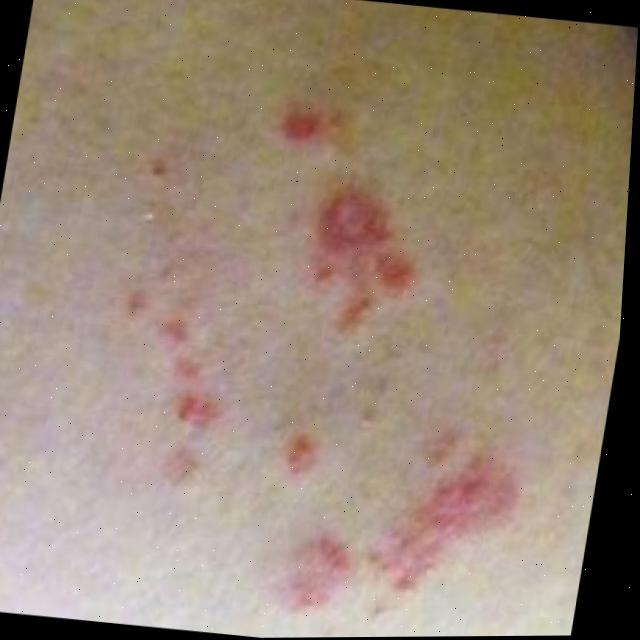Shingles: (363, 449, 529, 608), (112, 287, 255, 460), (295, 190, 425, 354)
